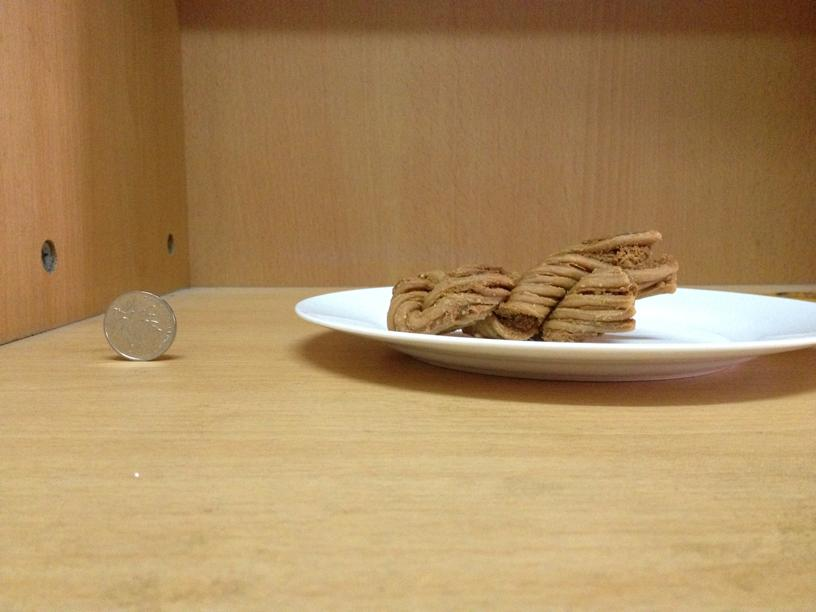coin: (101, 291, 176, 360)
fired_dough_twist: (383, 230, 676, 339)
